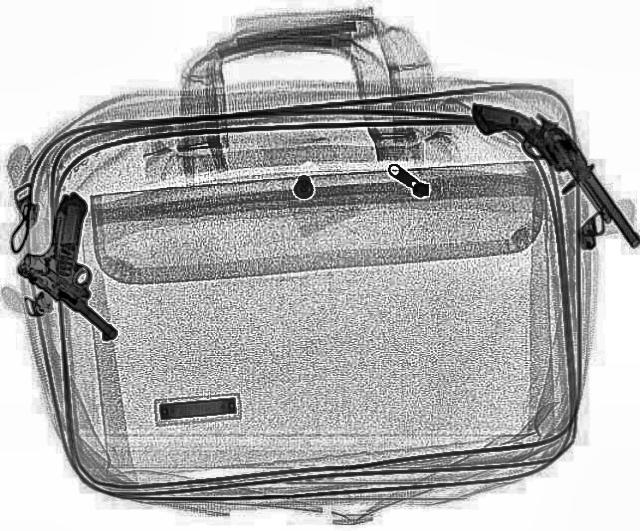Gun: (470, 85, 638, 255), (0, 204, 182, 338)
